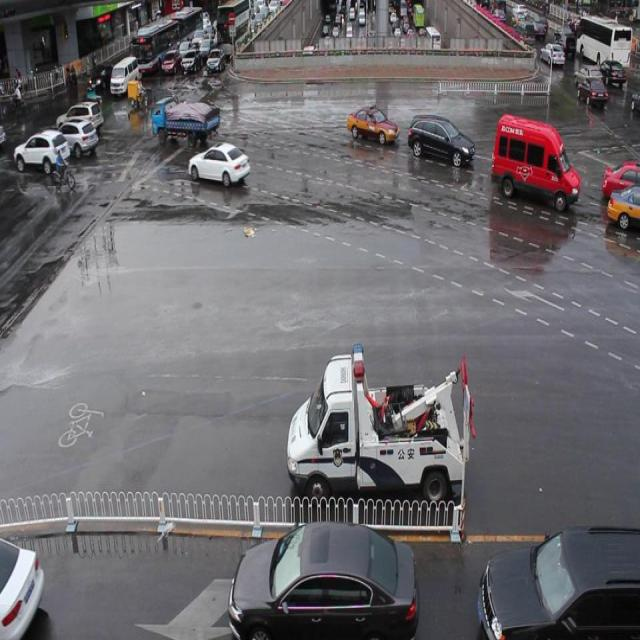bus: (287, 344, 475, 513), (153, 96, 220, 148)
car: (228, 522, 418, 640), (478, 525, 640, 640), (1, 532, 43, 640), (408, 116, 474, 170), (189, 144, 249, 183), (347, 105, 398, 145), (602, 159, 640, 202), (606, 186, 640, 231)
truck: (490, 113, 580, 213)
